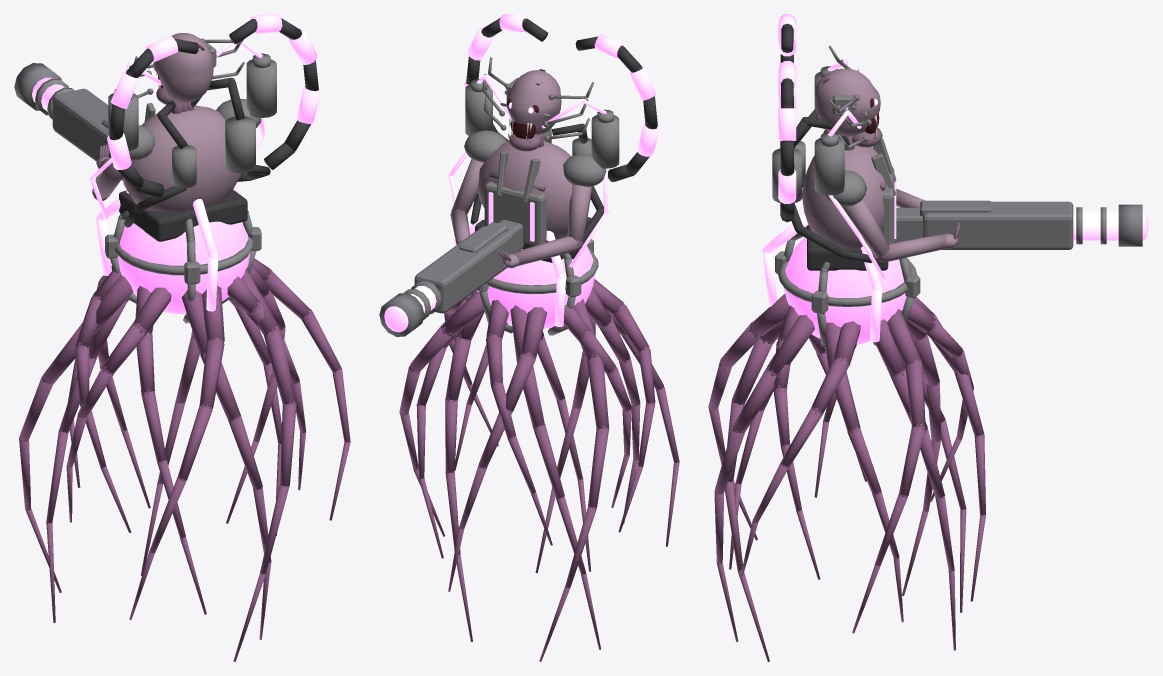
The model's file is levit_velitel.glb.
3 views of the same model, side by side, from view 1: azimuth 30°, elevation 25°; view 2: azimuth 150°, elevation 25°; view 3: azimuth 270°, elevation 25° (orthographic). The views are drawn at different scales.
Visible parts, largest first — view 1: Organ, Body; view 2: Organ, Body; view 3: Organ, Body.
Boxes of the visible parts, box(x1,y1,x2,y2) form: Organ: box(19, 188, 350, 661); Body: box(14, 14, 320, 241); Organ: box(399, 215, 679, 661); Body: box(379, 14, 659, 336); Organ: box(708, 214, 985, 661); Body: box(772, 14, 1148, 279).
Size of the model in its own units: 0.9222 by 2.21 by 1.46.
